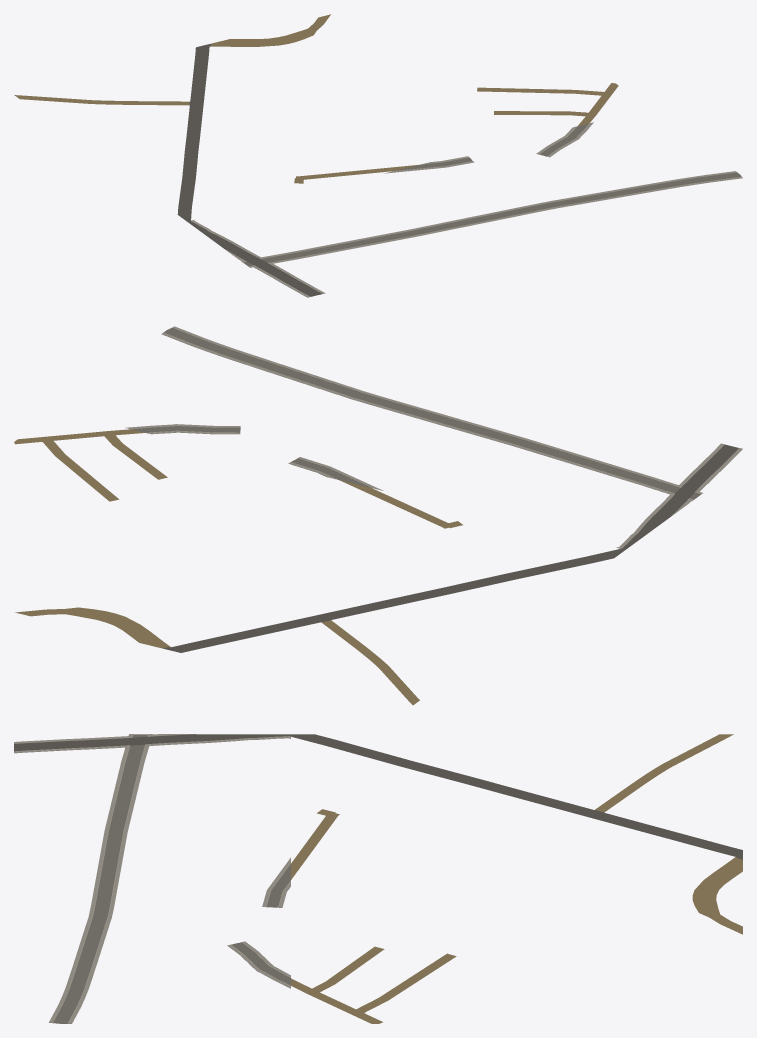
The model's file is Ulice_3_3.fbx.
3 views of the same model, one above another, from view 1: azimuth 30°, elevation 25°; view 2: azimuth 150°, elevation 25°; view 3: azimuth 270°, elevation 25° (orthographic). The views are drawn at different scales.
Parts seen in each view (by area): view 1: Ulica_3_3, Chodnik_3_3; view 2: Ulica_3_3, Chodnik_3_3; view 3: Ulica_3_3, Chodnik_3_3.
Boxes of the visible parts, x1,y1,x2,y2 form: Ulica_3_3: [14, 14, 741, 296]; Chodnik_3_3: [191, 122, 742, 297]; Ulica_3_3: [14, 328, 738, 705]; Chodnik_3_3: [125, 326, 742, 548]; Ulica_3_3: [14, 734, 742, 1023]; Chodnik_3_3: [14, 734, 290, 1023].
Bounding box in the file's own units: 470 × 0.16 × 500.
